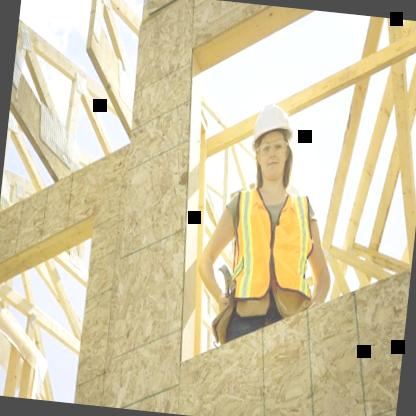helmet: (240, 91, 298, 190)
